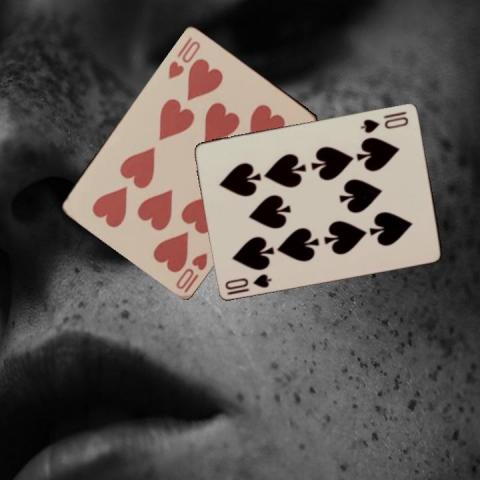10h: (165, 33, 202, 81), (173, 249, 209, 294)
10s: (359, 113, 410, 134), (222, 270, 273, 291)
